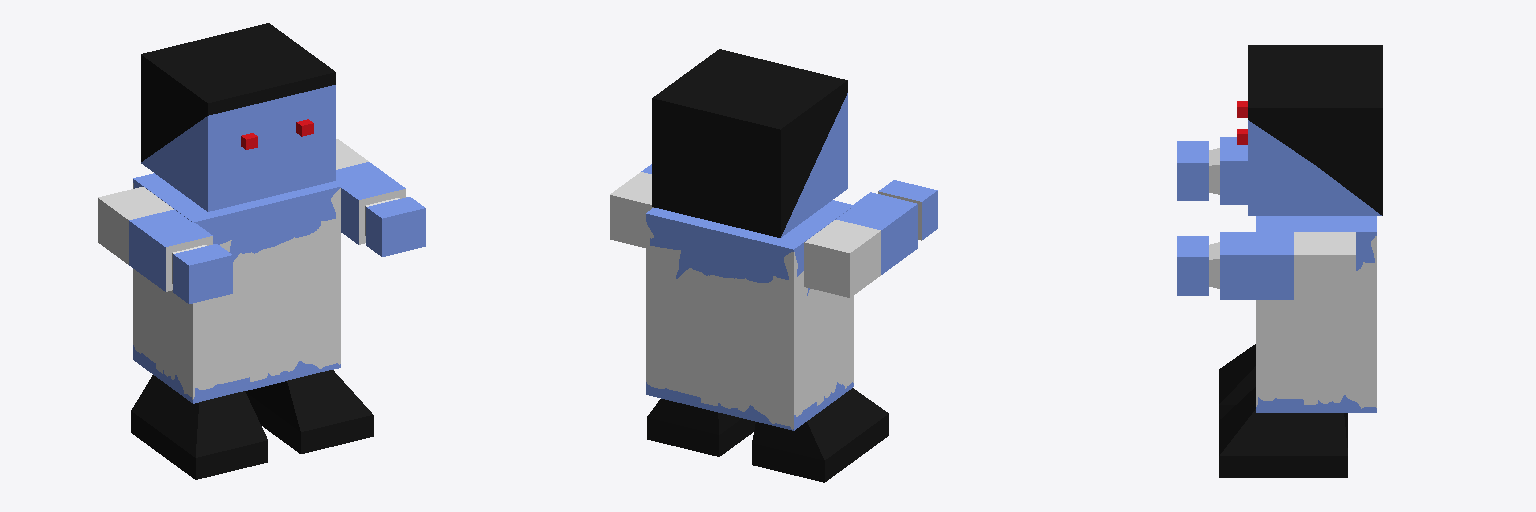
3 views of the same model, side by side, from view 1: azimuth 30°, elevation 25°; view 2: azimuth 150°, elevation 25°; view 3: azimuth 270°, elevation 25° (orthographic).
Parts seen in each view (by area): view 1: cube1, cube5, cube2, cube3, cube4; view 2: cube1, cube5, cube2, cube3, cube4; view 3: cube1, cube4, cube3, cube5, cube2.
Boxes of the visible parts, box(x1,y1,x2,y2) form: cube1: box(133, 23, 340, 403); cube5: box(98, 187, 232, 303); cube2: box(131, 375, 267, 479); cube3: box(245, 370, 373, 453); cube4: box(335, 139, 425, 256); cube1: box(646, 49, 853, 430); cube5: box(804, 180, 937, 297); cube2: box(752, 388, 888, 482); cube3: box(647, 399, 755, 456); cube4: box(610, 164, 653, 247); cube1: box(1248, 45, 1382, 412); cube4: box(1177, 232, 1355, 299); cube3: box(1219, 387, 1347, 477); cube5: box(1177, 137, 1247, 204); cube2: box(1219, 344, 1347, 419).
Bounding box in the file's own units: 40.47 × 57.8 × 30.
5 materials, 5 textured.